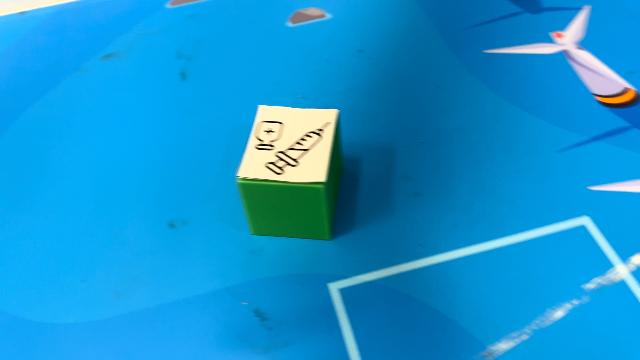syringe: (235, 104, 341, 240)
